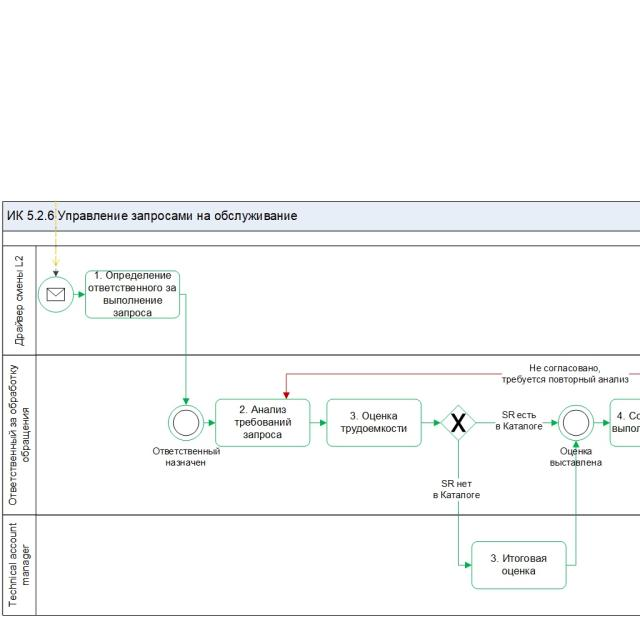arrow: (283, 371, 502, 400), (454, 441, 471, 569), (566, 440, 581, 569), (180, 293, 190, 405), (475, 419, 559, 429), (53, 201, 60, 277), (592, 417, 612, 428), (421, 419, 441, 428), (310, 419, 327, 426), (74, 289, 85, 299), (204, 418, 215, 427)
circle: (167, 403, 206, 443), (558, 403, 593, 441), (37, 277, 73, 313)
rectangle: (472, 541, 566, 589), (84, 272, 180, 319), (215, 399, 310, 446), (327, 399, 421, 446)
text_region: (504, 361, 630, 388), (151, 445, 221, 470), (431, 480, 482, 500)
